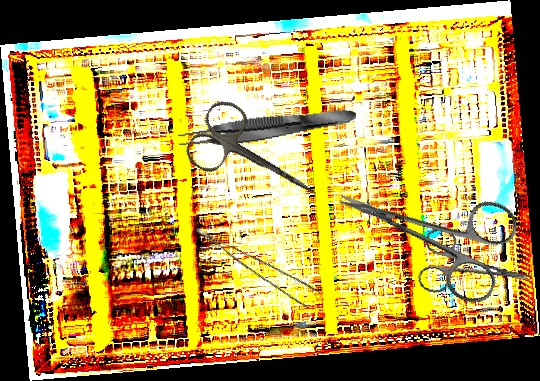Iris Scissors: (321, 146, 525, 310), (180, 94, 335, 227), (415, 226, 538, 312)
Tissue Forceps: (195, 208, 321, 315), (177, 102, 358, 154)
